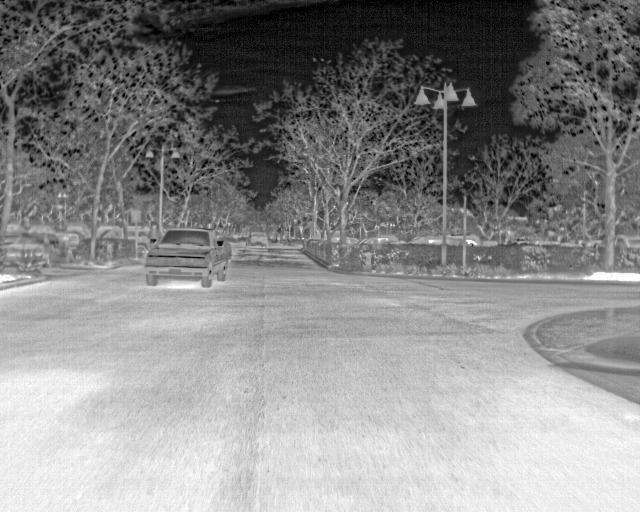car: (144, 227, 233, 287), (6, 235, 73, 269), (363, 233, 400, 246), (413, 234, 441, 247), (125, 226, 146, 242), (100, 225, 124, 239), (248, 230, 270, 245), (617, 233, 639, 248), (31, 223, 58, 235), (68, 223, 88, 235), (447, 232, 463, 246), (466, 234, 483, 246), (348, 236, 363, 248)
